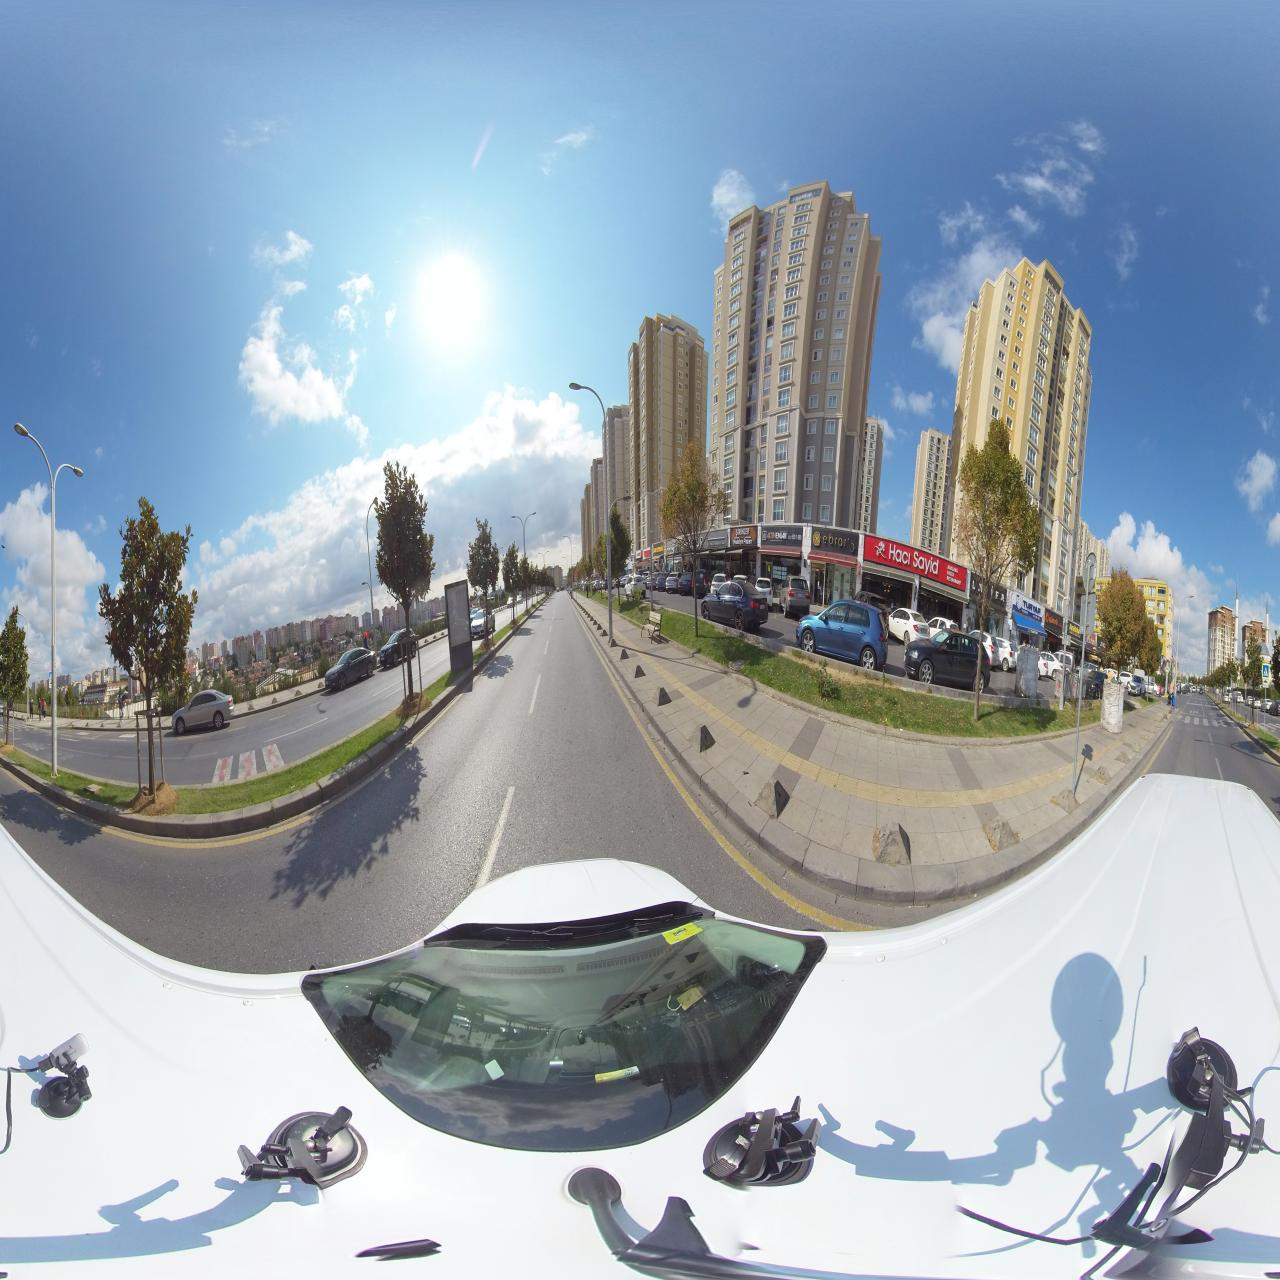SignStore: (871, 537, 962, 590), (812, 527, 858, 556), (1014, 593, 1042, 622), (762, 529, 802, 545), (733, 526, 754, 546), (1046, 610, 1063, 631), (1068, 621, 1082, 641), (653, 544, 663, 554), (644, 549, 651, 558)
